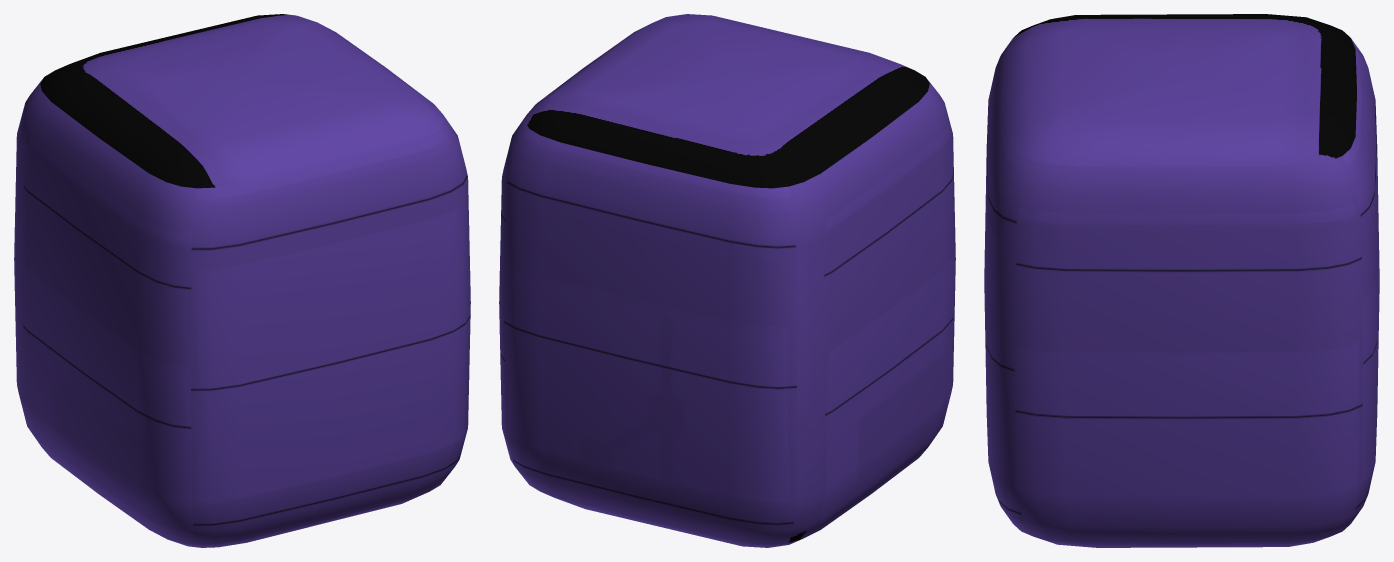
File: Estela_BrazoDer.fbx
The picture shows the model from 3 angles, left to right: view 1: azimuth 30°, elevation 25°; view 2: azimuth 150°, elevation 25°; view 3: azimuth 270°, elevation 25°; orthographic projection. The views are drawn at different scales.
Parts seen in each view (by area): view 1: Estela_BrazoDer; view 2: Estela_BrazoDer; view 3: Estela_BrazoDer.
Part boxes in pixels (x1,y1,x2,y2): Estela_BrazoDer: (14,14,470,547); Estela_BrazoDer: (499,14,955,547); Estela_BrazoDer: (984,14,1379,547).
Bounding box in the file's own units: 1.07 × 1.27 × 1.07.
